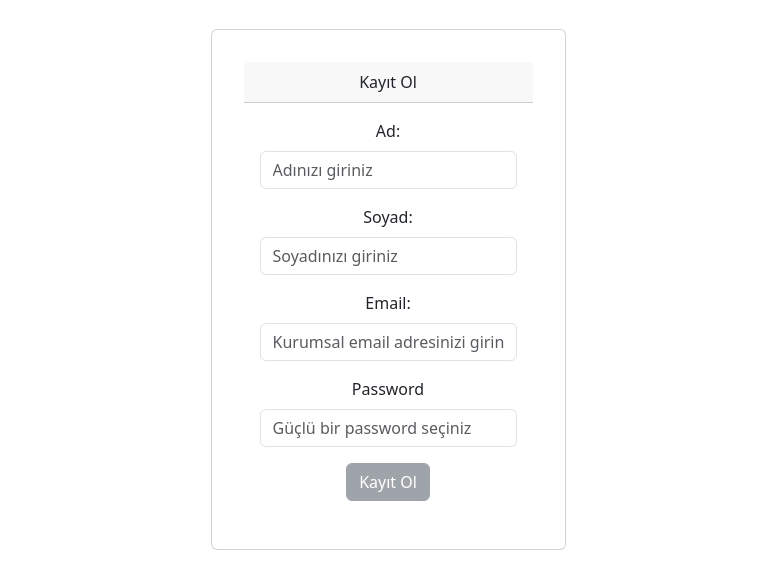
Scenario: Register Page › Error Messages › Password input throws error for 1234
This screenshot has width=777, height=579.
Type "1234" into the password field with test id "password-input" at coordinates (389, 428), box left=260, top=409, right=517, bottom=447
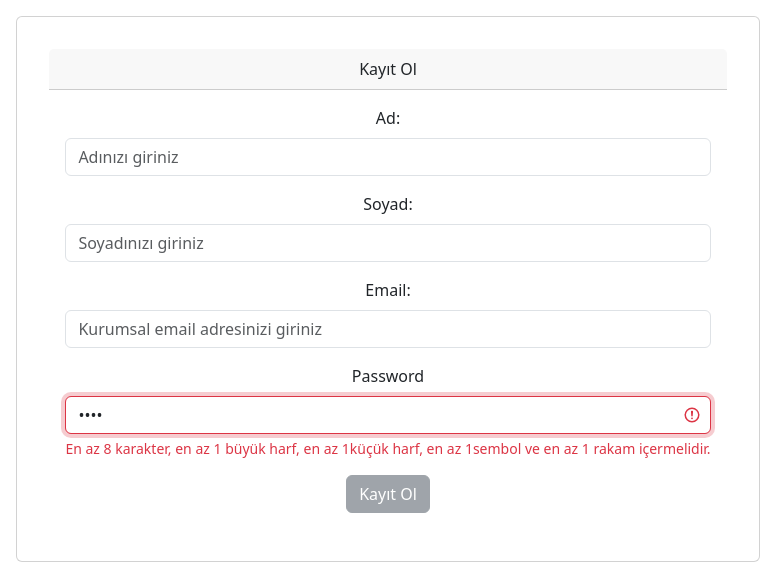
Now the text "En az 8 karakter, en az 1 büyük harf, en az 1küçük harf, en az 1sembol ve en az 1 rakam içermelidir." is shown, box left=65, top=439, right=710, bottom=458
